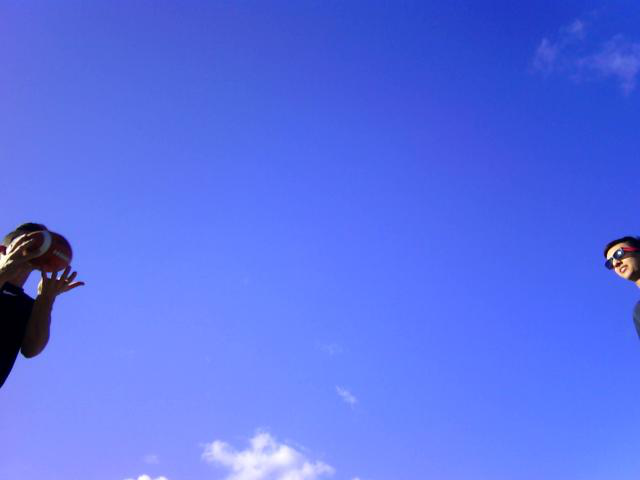football: (16, 231, 78, 279)
